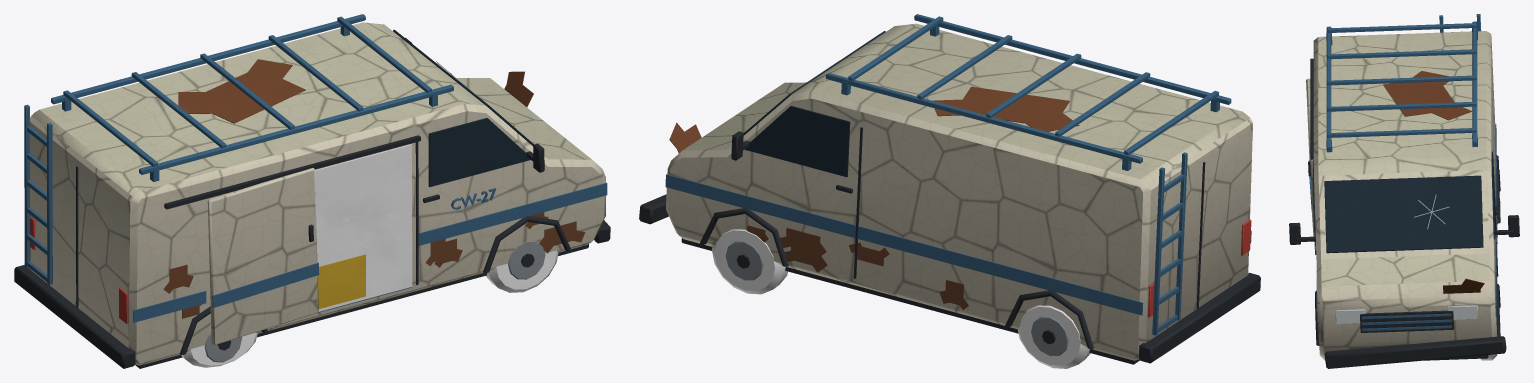
The model's file is van_wreck.glb.
3 views of the same model, side by side, from view 1: azimuth 30°, elevation 25°; view 2: azimuth 150°, elevation 25°; view 3: azimuth 270°, elevation 25° (orthographic). The views are drawn at different scales.
Parts seen in each view (by area): view 1: van_wreck; view 2: van_wreck; view 3: van_wreck.
Part boxes in pixels (box(x1,y1,x2,y2)): van_wreck: box(14, 14, 610, 368); van_wreck: box(639, 14, 1260, 368); van_wreck: box(1289, 14, 1519, 368).
Size of the model in its own units: 5.18 by 2.26 by 2.47.
Materials: 15 (15 with a texture image).
